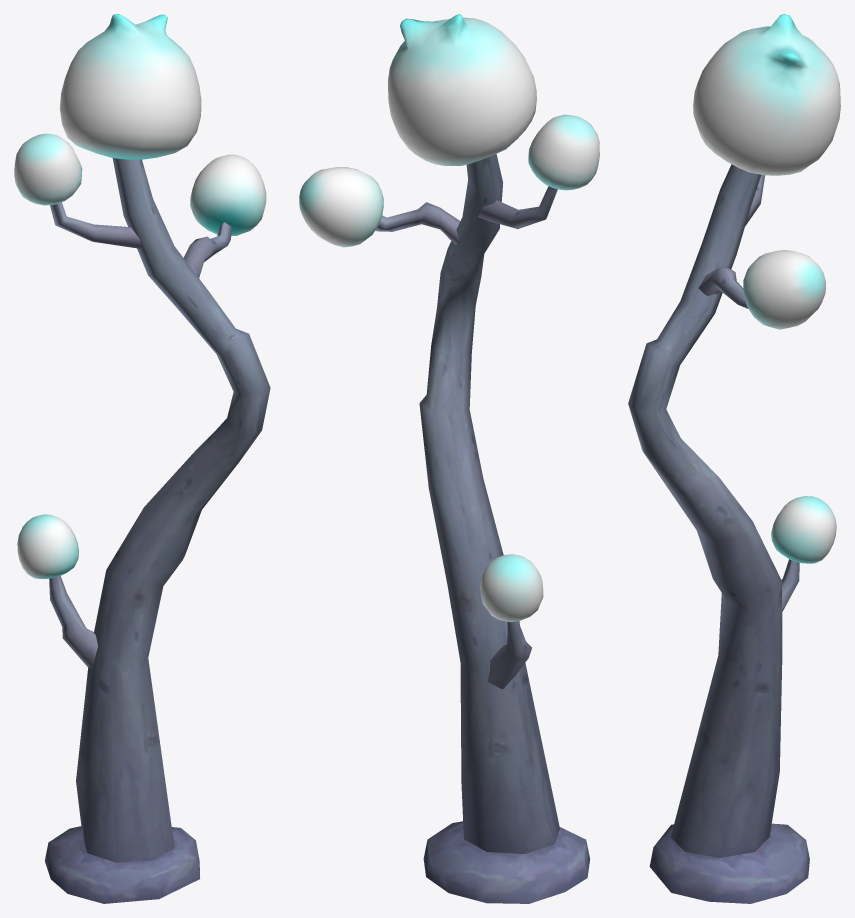
Rendered from Homeworld_Exterior_Fd_Lamp_Light_RycDeng_01_Vo.fbx.
3 renders of one model, left to right at view 1: azimuth 30°, elevation 25°; view 2: azimuth 150°, elevation 25°; view 3: azimuth 270°, elevation 25°, orthographic. The views are drawn at different scales.
Visible parts, largest first — view 1: Area_Fd_Light_RYC_Deng_EverLit_Lightrigged_02_Vo, Lampshade_01; view 2: Area_Fd_Light_RYC_Deng_EverLit_Lightrigged_02_Vo, Lampshade_01; view 3: Area_Fd_Light_RYC_Deng_EverLit_Lightrigged_02_Vo, Lampshade_01.
Part boxes in pixels (x1,y1,x2,y2): Area_Fd_Light_RYC_Deng_EverLit_Lightrigged_02_Vo: [45, 158, 270, 903]; Lampshade_01: [14, 14, 266, 579]; Area_Fd_Light_RYC_Deng_EverLit_Lightrigged_02_Vo: [375, 154, 589, 903]; Lampshade_01: [299, 14, 599, 622]; Area_Fd_Light_RYC_Deng_EverLit_Lightrigged_02_Vo: [628, 164, 809, 903]; Lampshade_01: [693, 14, 840, 563].
Size of the model in its own units: 0.8359 by 2.55 by 0.5699.
Materials: 2 (1 with a texture image).
